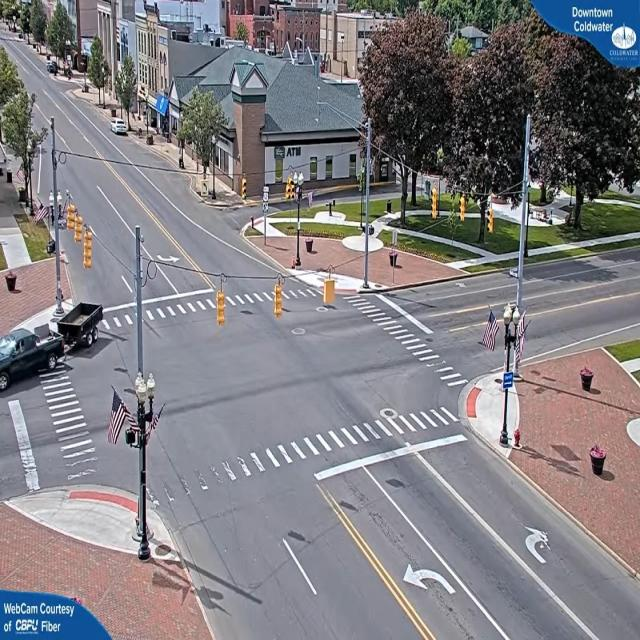car: (0, 323, 59, 387), (111, 121, 131, 138)
